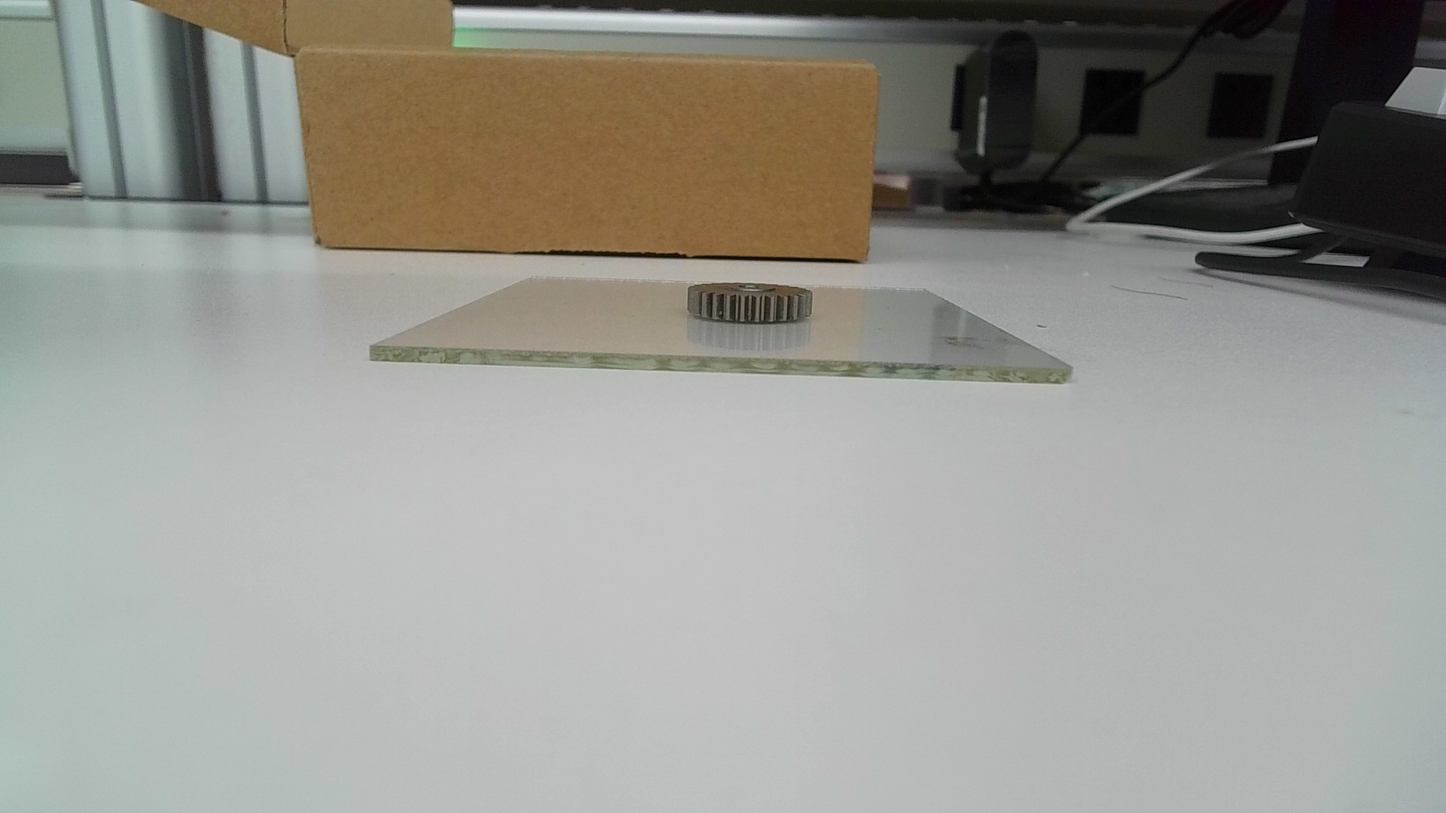gear: (686, 282, 813, 325)
